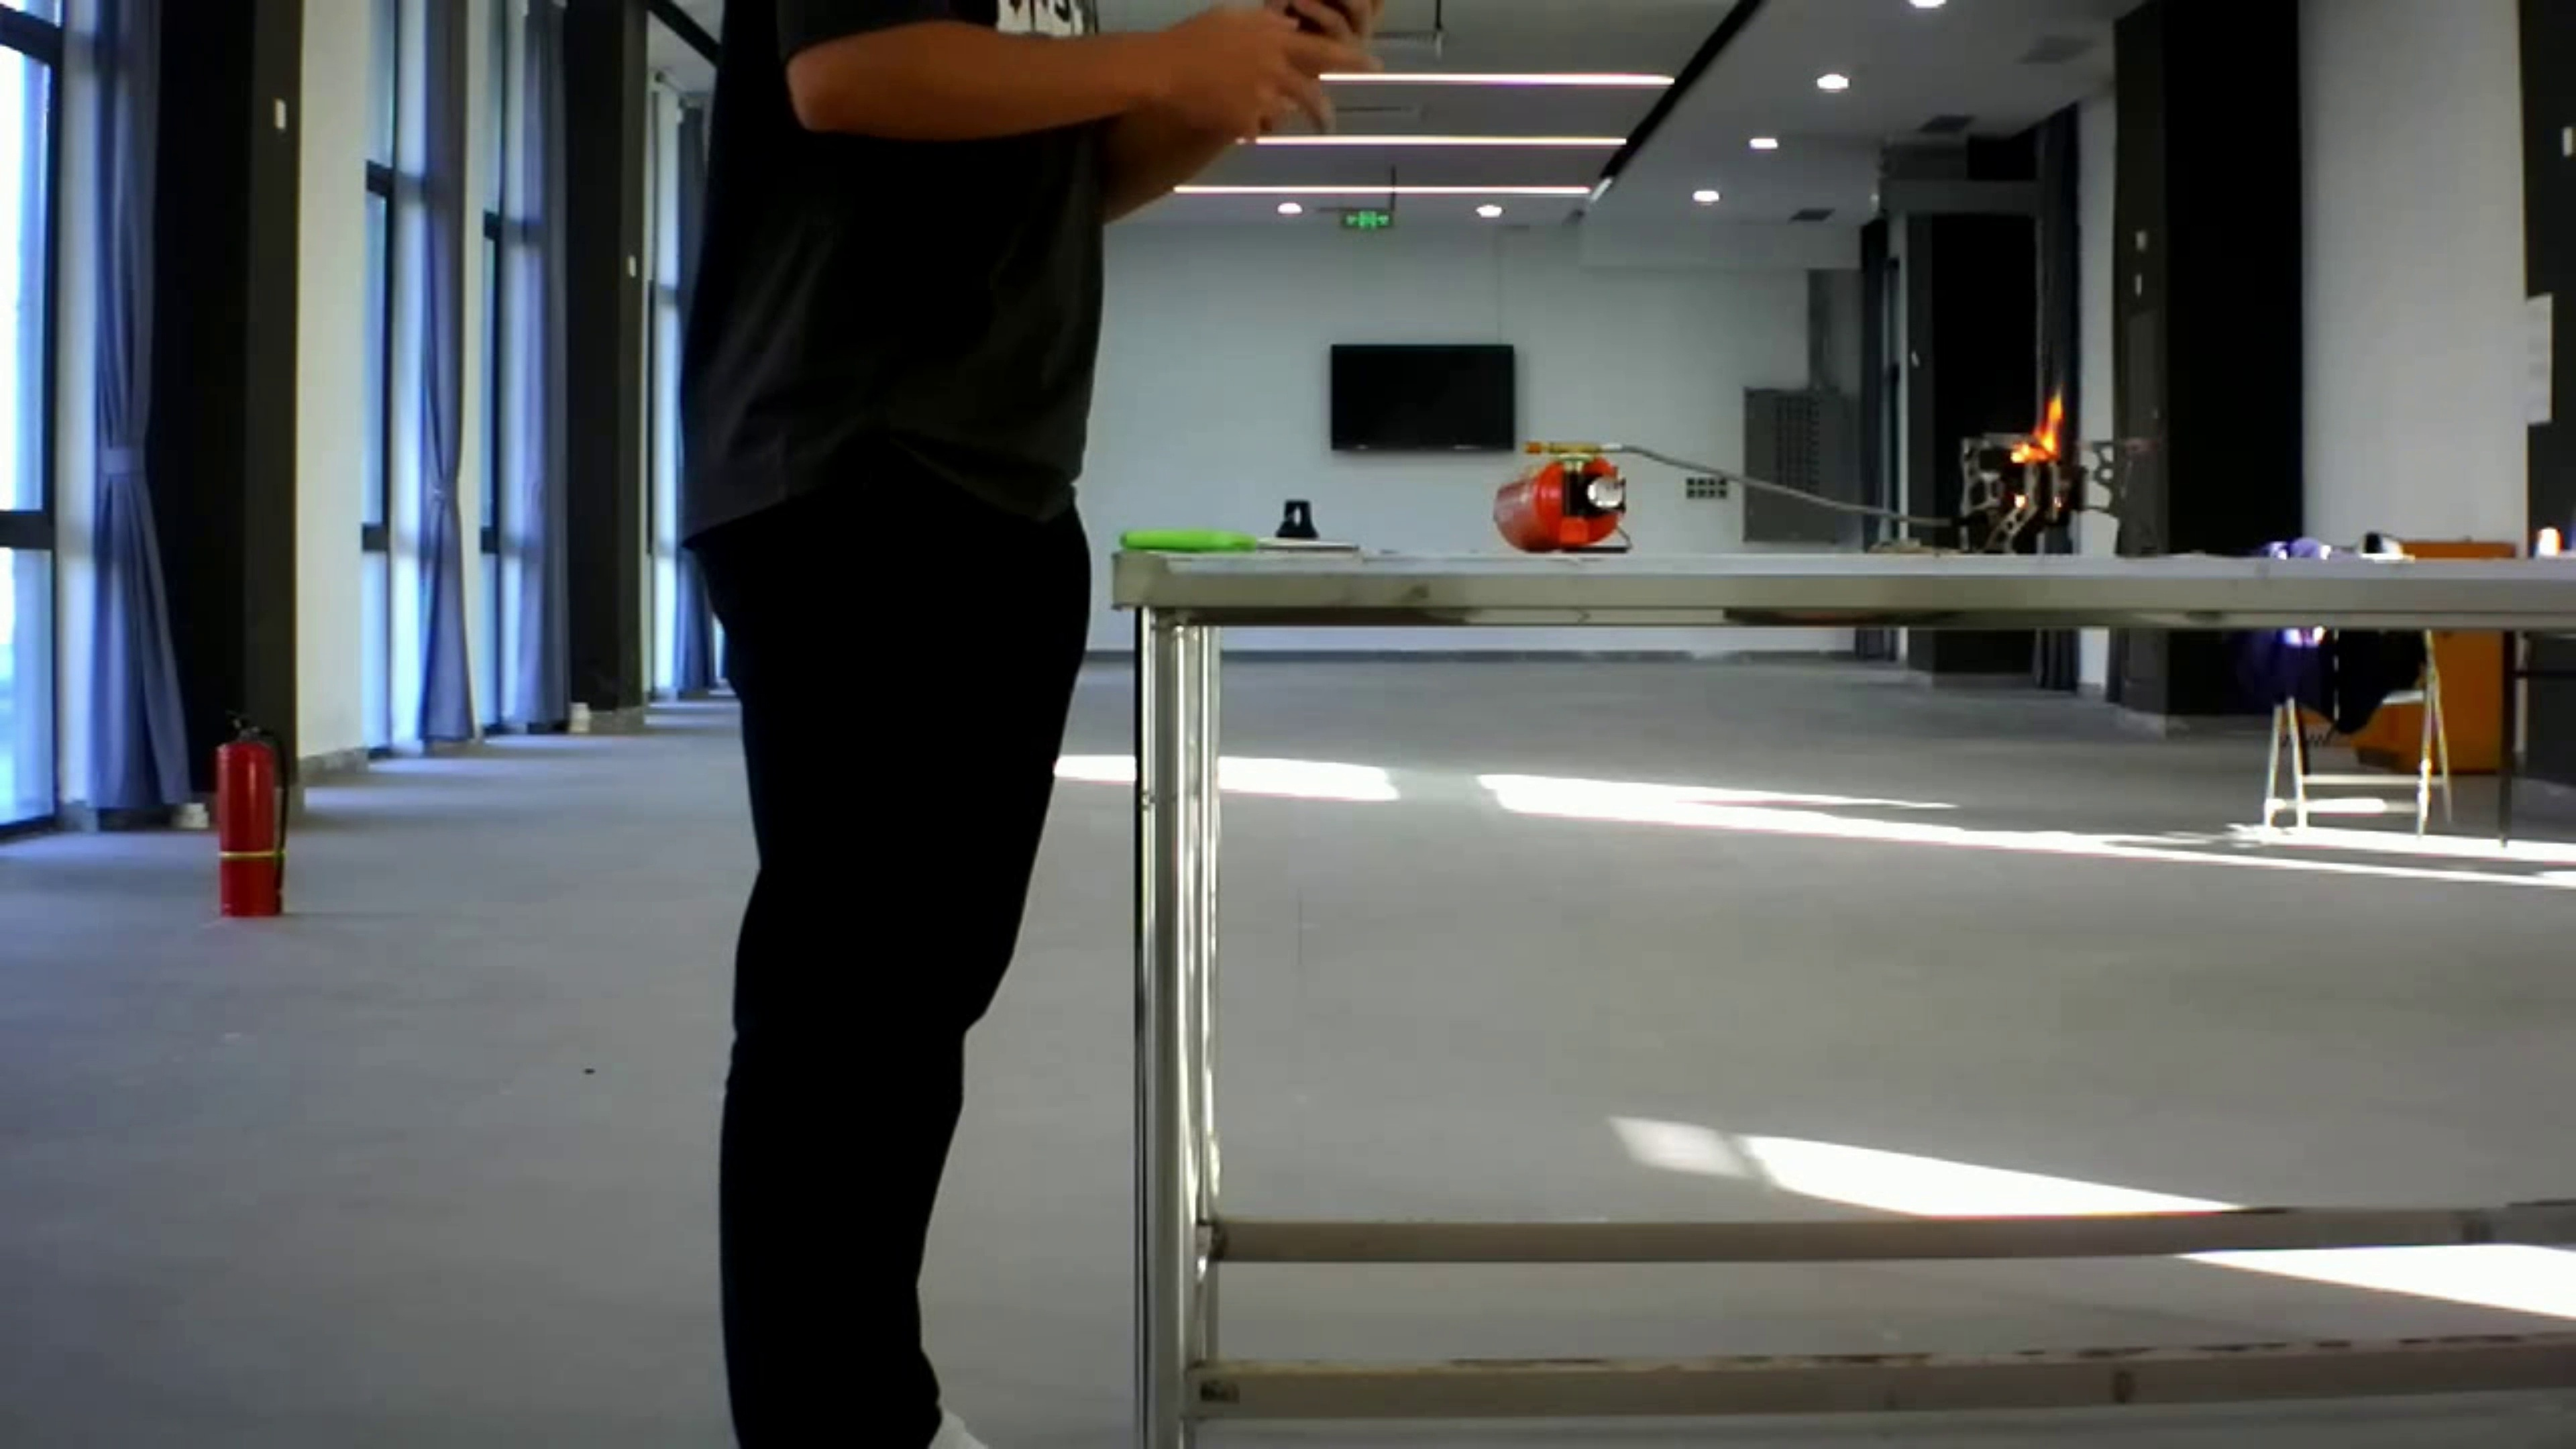Fire: (1985, 375, 2074, 492)
